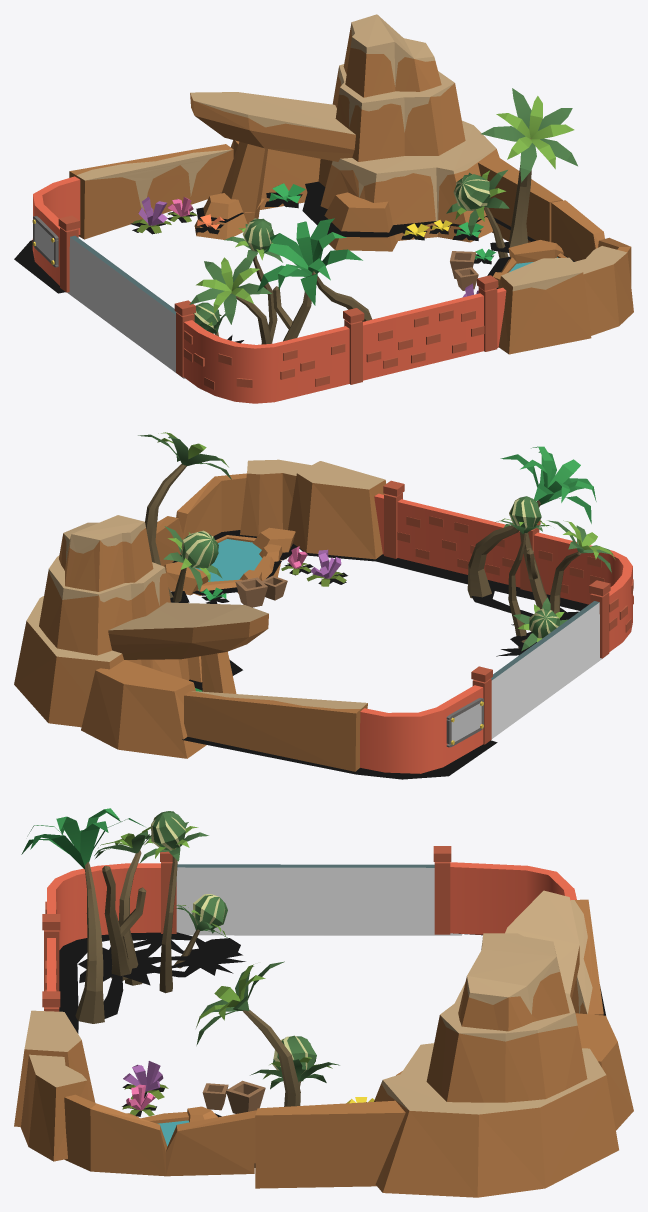
File: xweilan_1003_4.FBX
The picture shows the model from 3 angles, top to bottom: view 1: azimuth 30°, elevation 25°; view 2: azimuth 150°, elevation 25°; view 3: azimuth 270°, elevation 25°; orthographic projection. The views are drawn at different scales.
Parts seen in each view (by area): view 1: xweilan_1003_4; view 2: xweilan_1003_4; view 3: xweilan_1003_4.
Boxes of the visible parts, <box> form: xweilan_1003_4: <box>14,14,633,403</box>; xweilan_1003_4: <box>14,432,633,779</box>; xweilan_1003_4: <box>14,808,633,1197</box>.
Bounding box in the file's own units: 4595 × 1720 × 4687.
